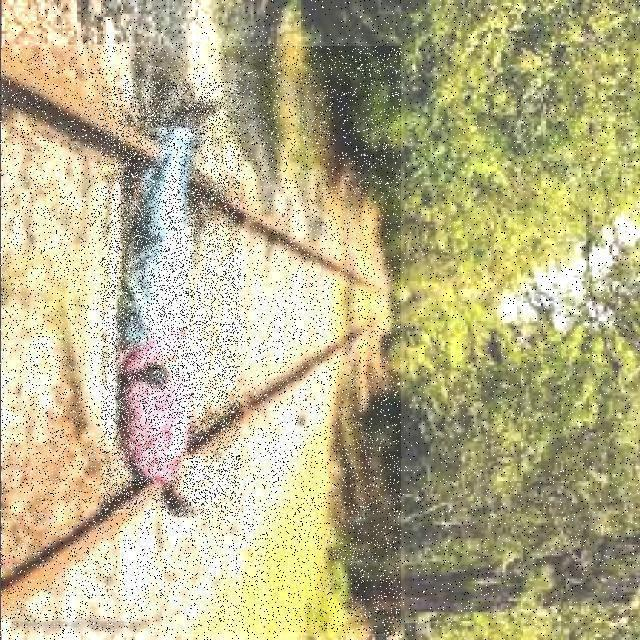rail: (3, 47, 402, 635)
